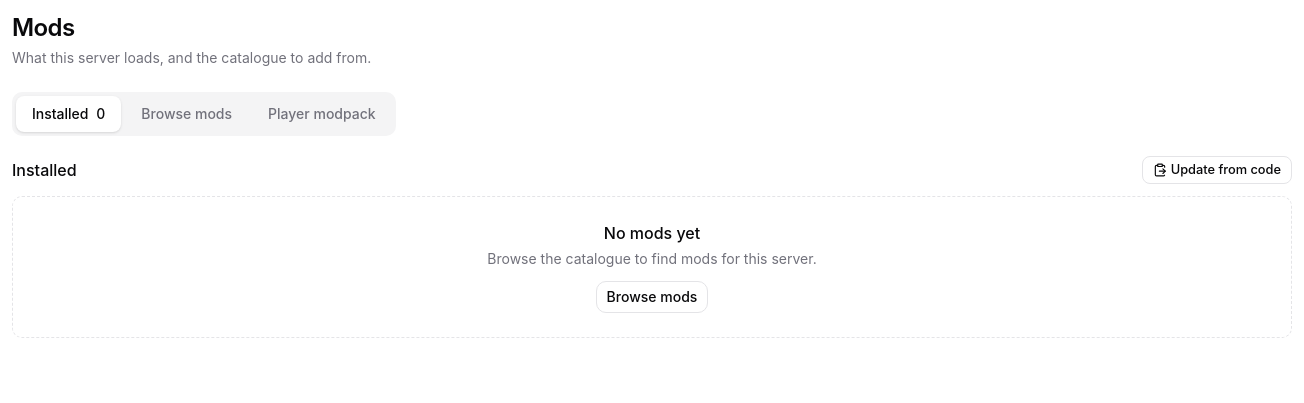
Test case: the mod screen › never lets an older search overwrite a newer one
Click the tab "Browse mods" at (187, 114), box [125,96,248,132]
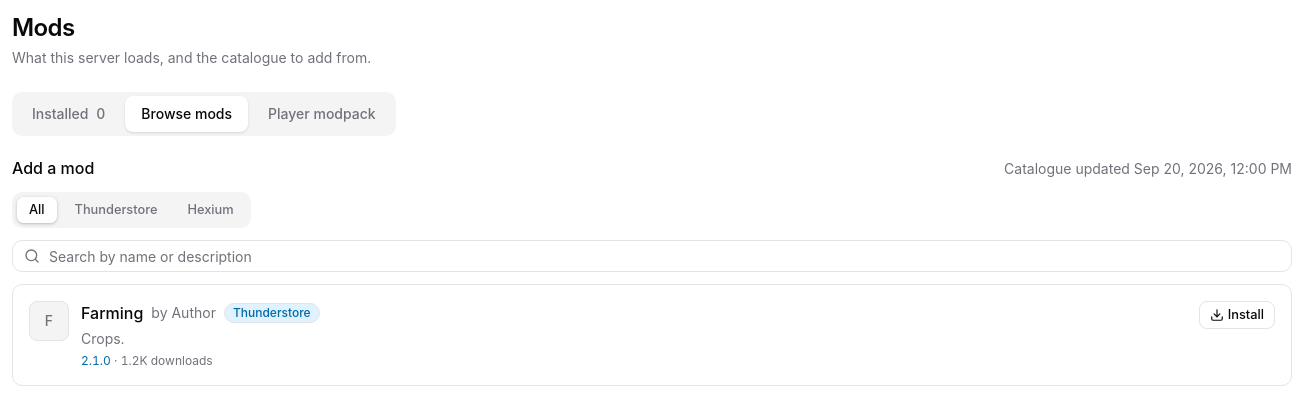
Type "old" into the field named "Search mods" at (652, 256), box [12,240,1292,272]
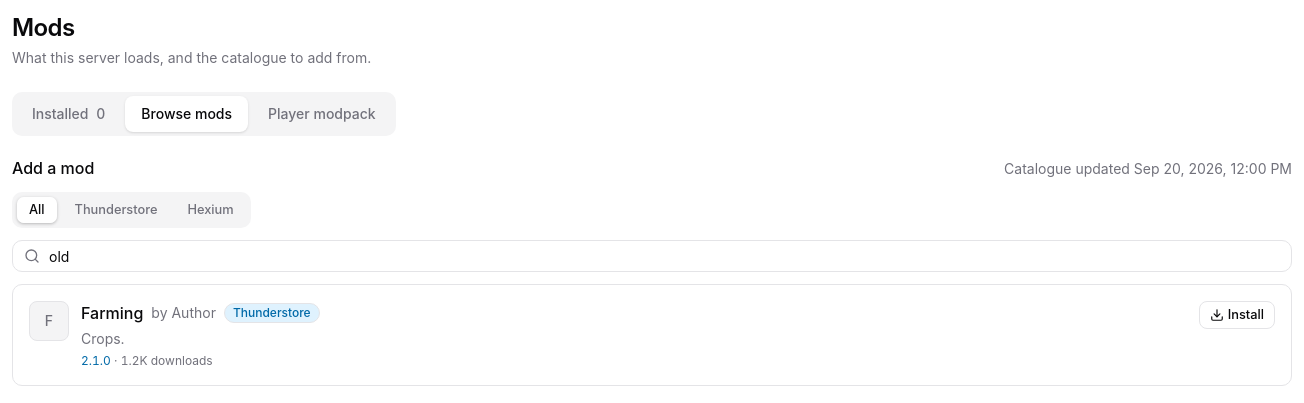
Replace the text in the field named "Search mods" with "new" at (652, 256), box [12,240,1292,272]
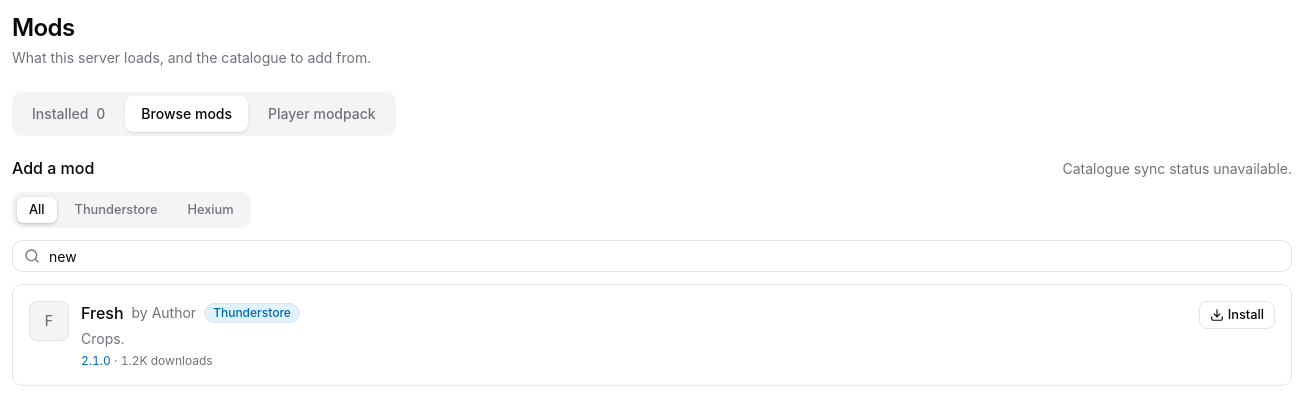
Expected: the text "Fresh" is shown, [81,301,124,325]
